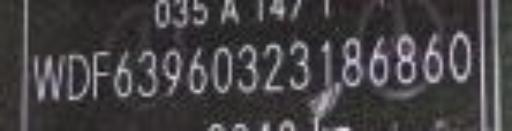letter: (390, 31, 422, 88), (418, 30, 450, 85), (31, 51, 65, 102), (284, 37, 314, 92), (446, 28, 474, 85), (338, 34, 366, 89), (110, 44, 138, 99), (184, 41, 210, 98), (236, 41, 262, 98), (260, 41, 286, 96), (66, 51, 92, 106), (135, 45, 159, 102), (366, 34, 390, 89), (159, 44, 183, 99), (211, 44, 235, 99), (90, 48, 114, 103), (318, 34, 334, 89)
